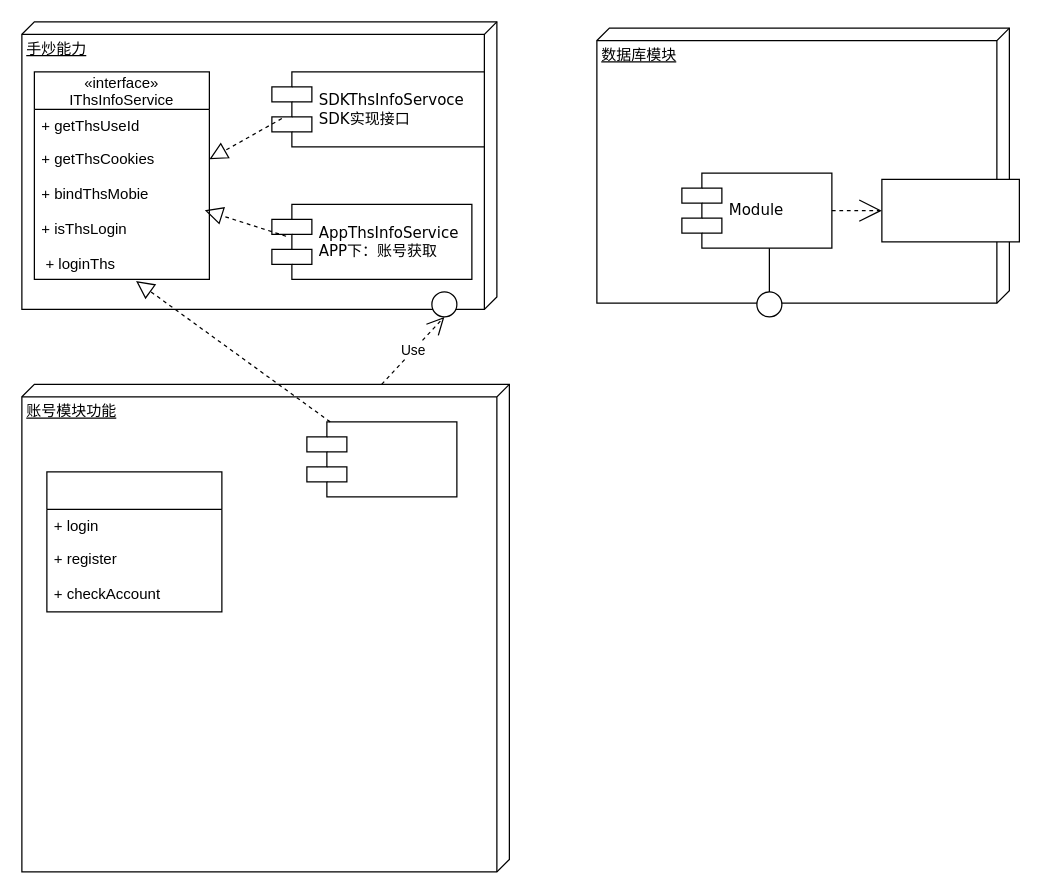
Image size: 1041x894. Some labels were removed from this diagram. Each missing label, with the box of its shape:
IThsService: (306, 421, 457, 497)
«interface» IFundAccountService: (46, 471, 222, 612)
«interface» Name: (881, 178, 1019, 242)
